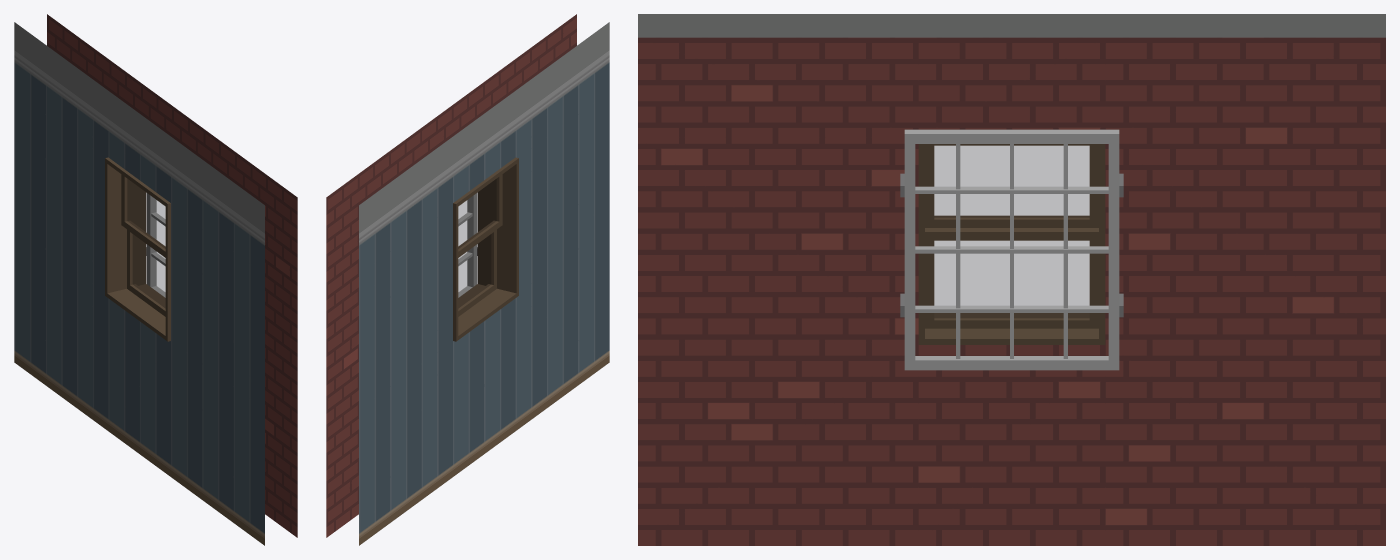
The model's file is SM_window_11.glb.
3 views of the same model, side by side, from view 1: azimuth 30°, elevation 25°; view 2: azimuth 150°, elevation 25°; view 3: azimuth 270°, elevation 25° (orthographic). The views are drawn at different scales.
Visible parts, largest first — view 1: SM_window_11; view 2: SM_window_11; view 3: SM_window_11.
Part boxes in pixels (left/top/right/bottom): SM_window_11: left=14, top=14, right=297, bottom=545; SM_window_11: left=326, top=14, right=609, bottom=545; SM_window_11: left=638, top=14, right=1385, bottom=545.
Bounding box in the file's own units: 0.4851 × 3 × 4.
4 materials, 3 textured.
